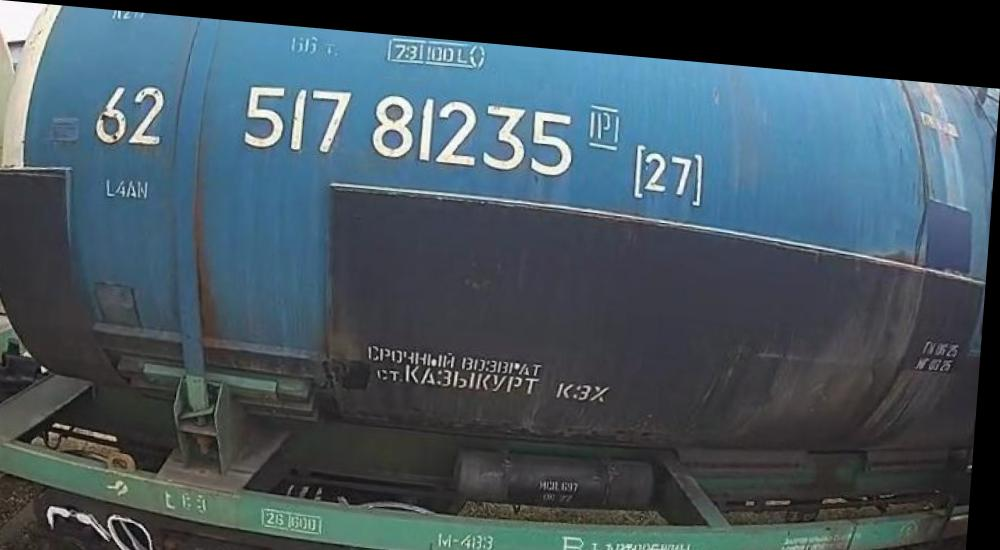Wagon-number: (239, 71, 586, 172)
